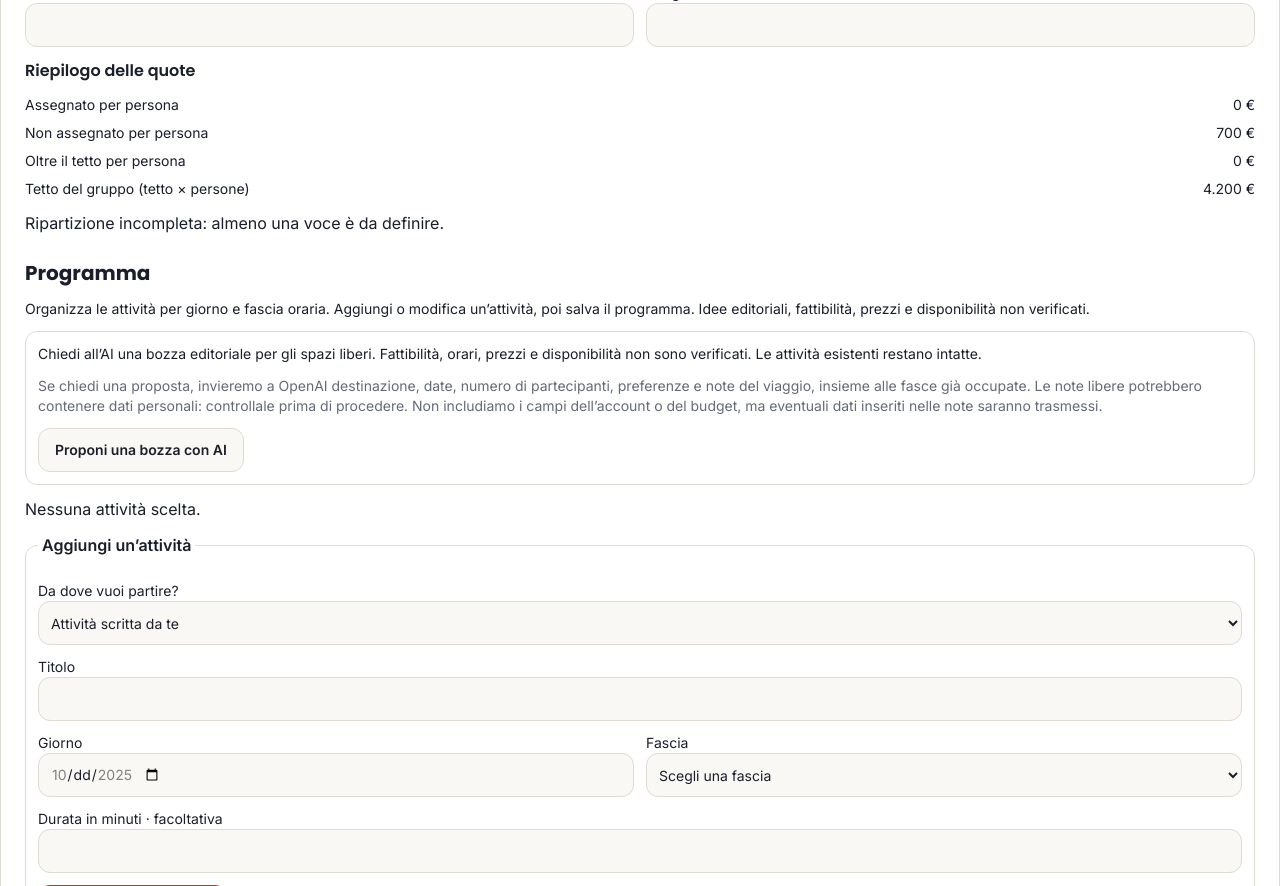
it: Trip Hub budget/program › rejects invalid/overlapping AI proposals before offering confirmation
(page scrolled)
Click the button "Proponi una bozza con AI" at (141, 450), box left=38, top=428, right=244, bottom=472
(page scrolled)
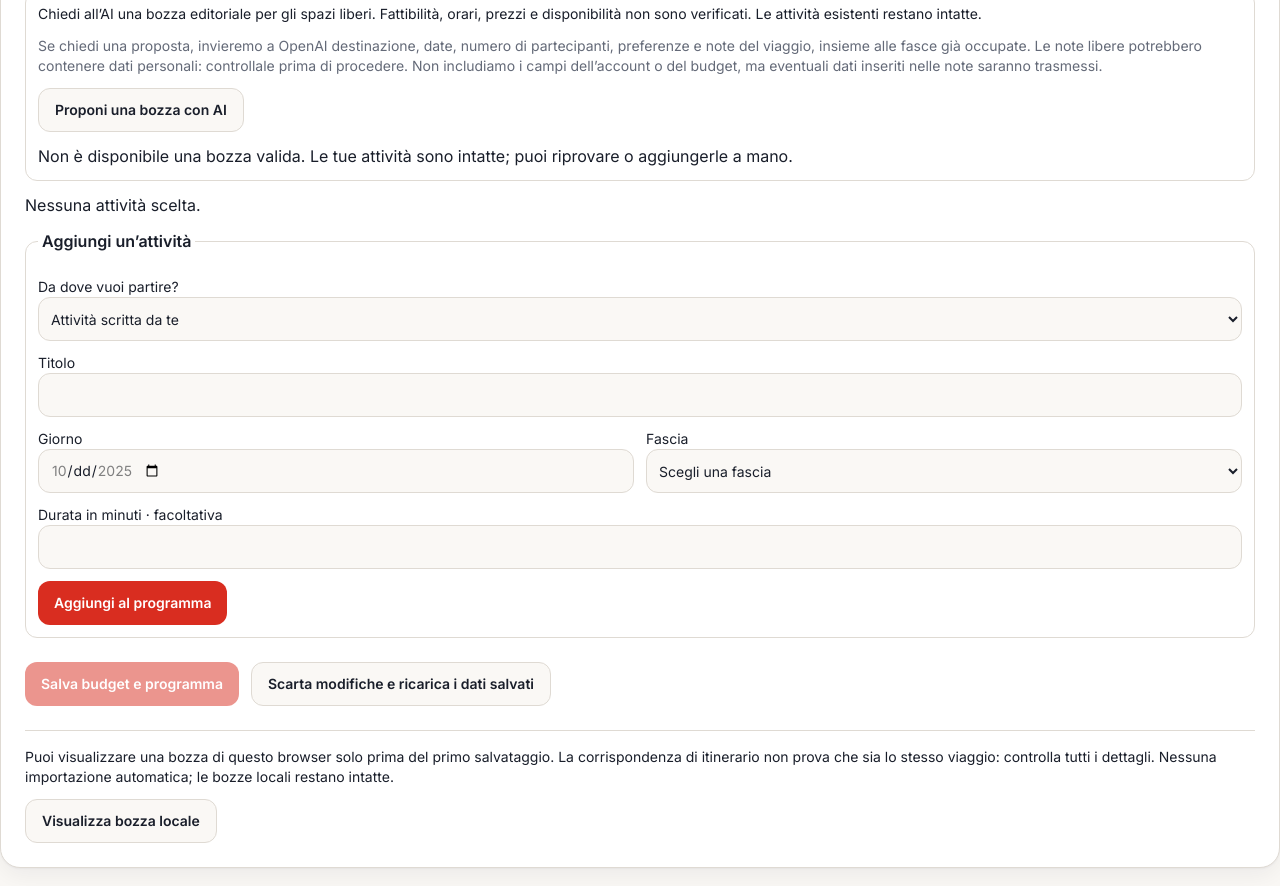
Expected: the button "Salva budget e programma" is disabled, left=25, top=662, right=239, bottom=706
Result: the text "Non è disponibile una bozza valida. Le tue attività sono intatte; puoi riprovare o aggiungerle a mano." is shown at left=38, top=146, right=793, bottom=166
